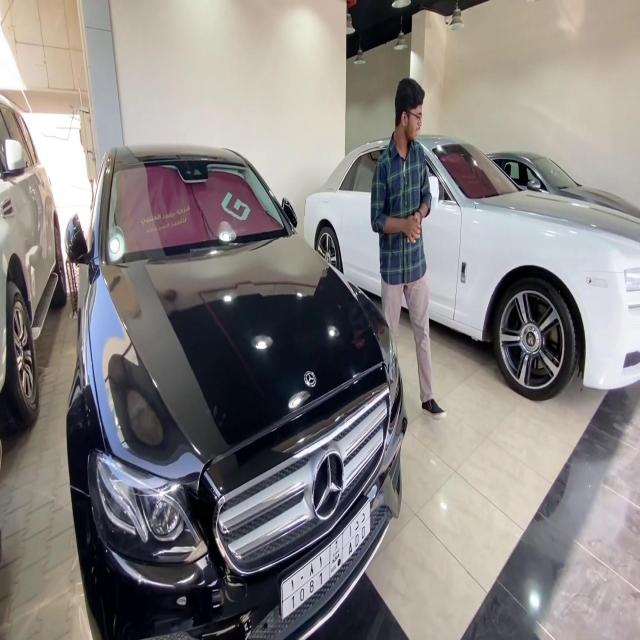license_plate: (276, 497, 372, 628)
